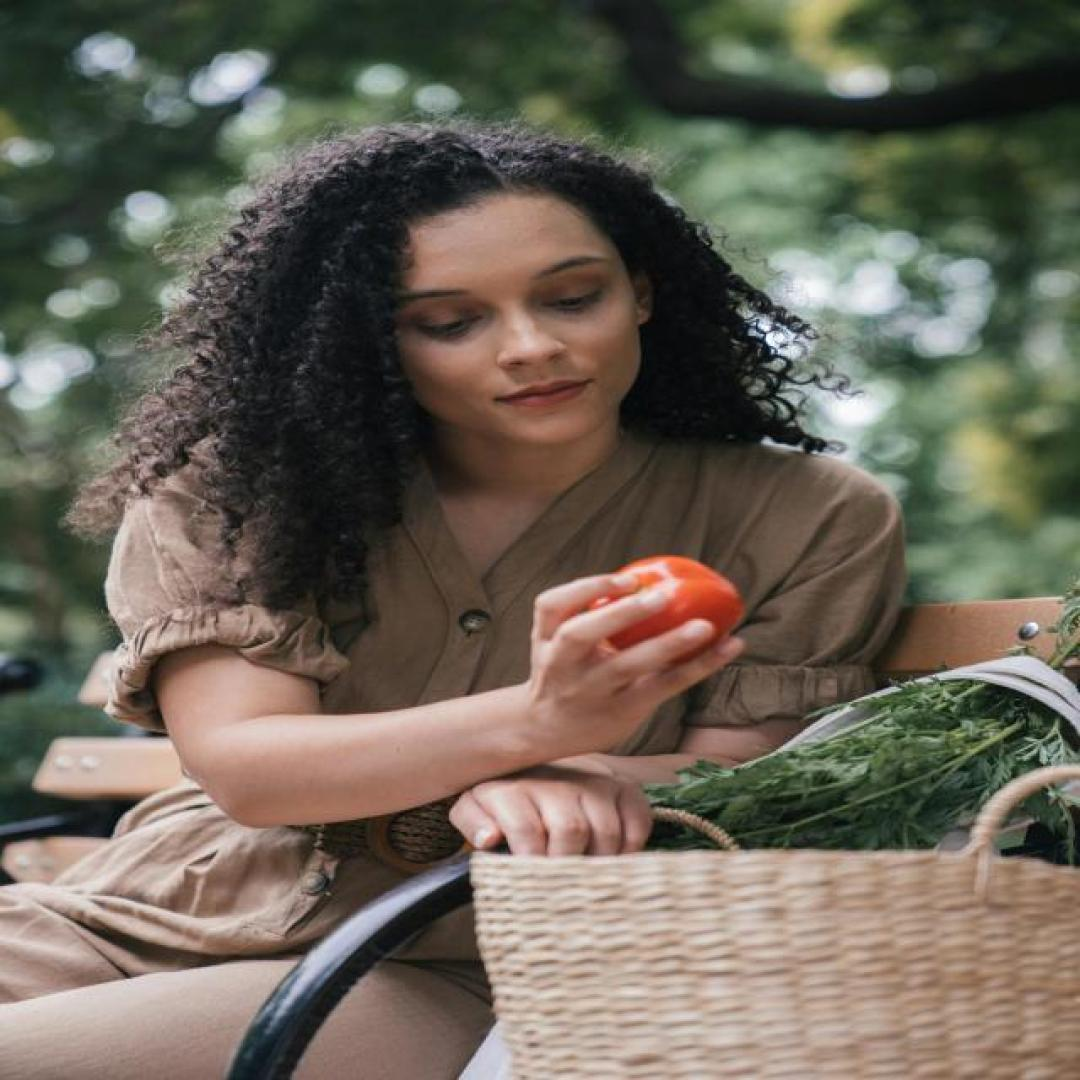matang: (587, 555, 744, 665)
